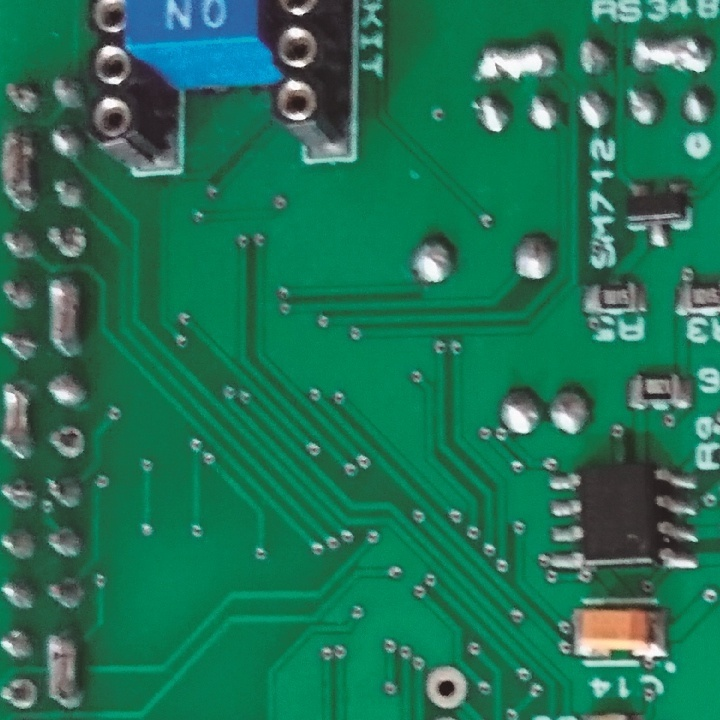F: (424, 662, 470, 710), (44, 221, 91, 261), (1, 668, 41, 714), (47, 423, 87, 462)
P: (44, 622, 88, 713), (473, 40, 561, 83), (630, 32, 716, 75), (1, 126, 42, 210), (46, 272, 86, 358), (1, 374, 36, 464)
